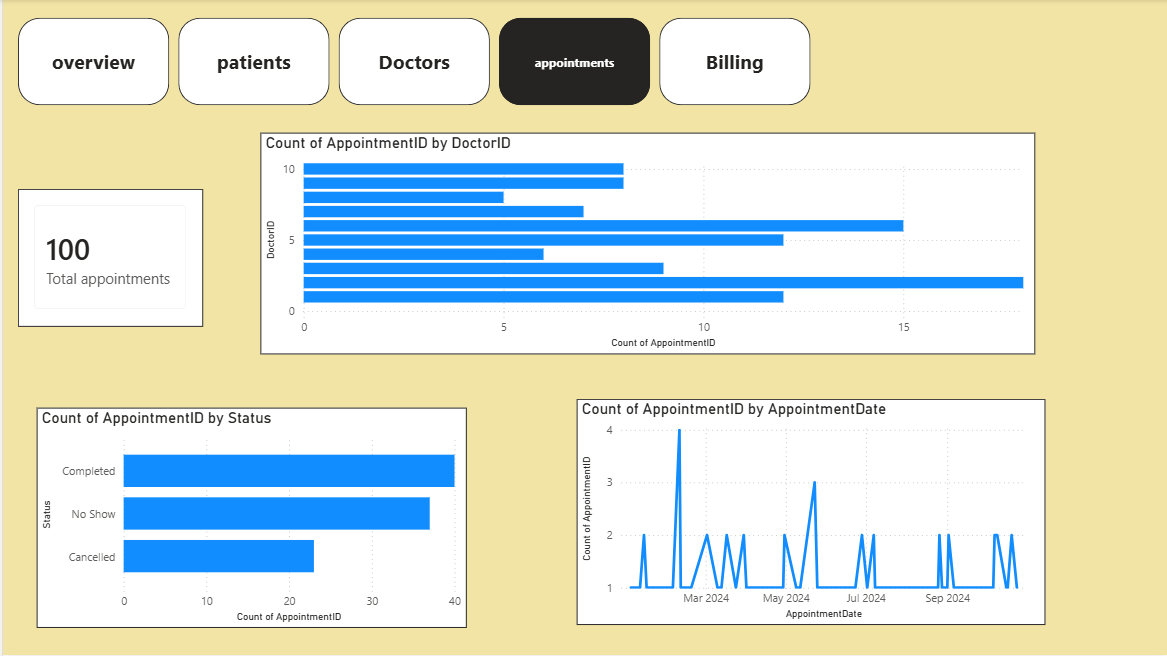

This screenshot's page, from the dashboard's own definition file:
{"tool":"powerbi","page":{"name":"appointments","canvas":[1280,720],"ordinal":3},"visuals":[{"type":"pageNavigator","box":[16.5,20.6,871.4,96.1],"z":0},{"type":"cardVisual","fields":{"Data":["Patients.Total appointments"]},"box":[16.5,208.6,203.1,150.9],"z":1000},{"type":"clusteredBarChart","fields":{"Category":["Appointments.Status"],"Y":["CountNonNull(Appointments.AppointmentID)"]},"box":[37,448.7,472,241.5],"z":2000},{"type":"clusteredBarChart","fields":{"Y":["CountNonNull(Appointments.AppointmentID)"],"Category":["Appointments.DoctorID"]},"box":[282.7,146.8,850.8,242.9],"z":3000},{"type":"lineChart","fields":{"Category":["Appointments.AppointmentDate"],"Y":["CountNonNull(Appointments.AppointmentID)"]},"box":[629.8,439.1,514.6,248.4],"z":4000}]}

Visuals, with their boxes in screenshot pixels (x1, y1, x2, y2), scaled from the page's 1280x720 canvas onto the 1167x656 screenshot:
pageNavigator: [left=15, top=19, right=810, bottom=106]
cardVisual - Patients.Total appointments: [left=15, top=190, right=200, bottom=328]
clusteredBarChart - Appointments.Status x CountNonNull(Appointments.AppointmentID): [left=34, top=409, right=464, bottom=629]
clusteredBarChart - CountNonNull(Appointments.AppointmentID) x Appointments.DoctorID: [left=258, top=134, right=1033, bottom=355]
lineChart - Appointments.AppointmentDate x CountNonNull(Appointments.AppointmentID): [left=574, top=400, right=1043, bottom=626]
